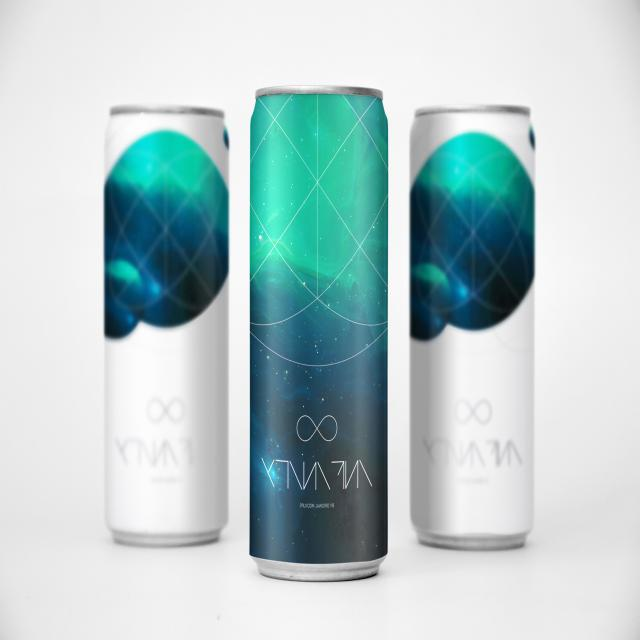metal: (250, 86, 388, 581), (410, 105, 535, 549), (104, 107, 229, 546)
